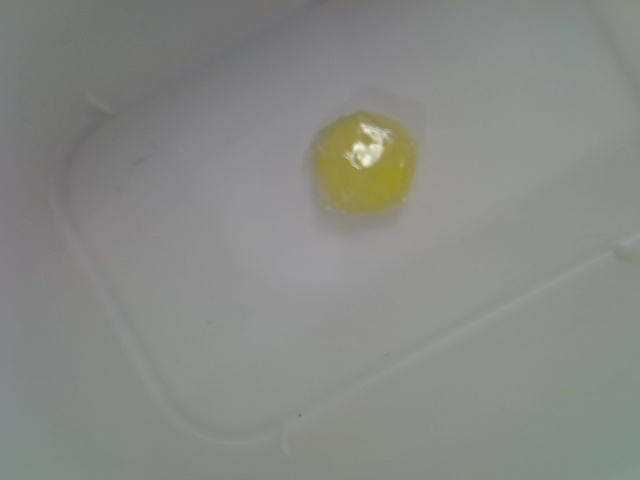씨앗: (313, 114, 418, 215)
